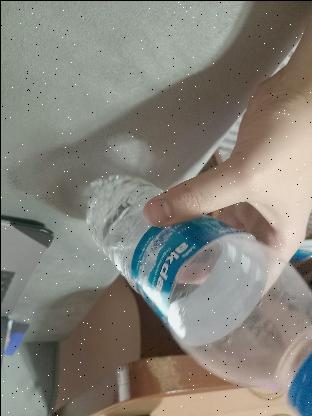Plastic Bottle: (82, 167, 312, 414)
